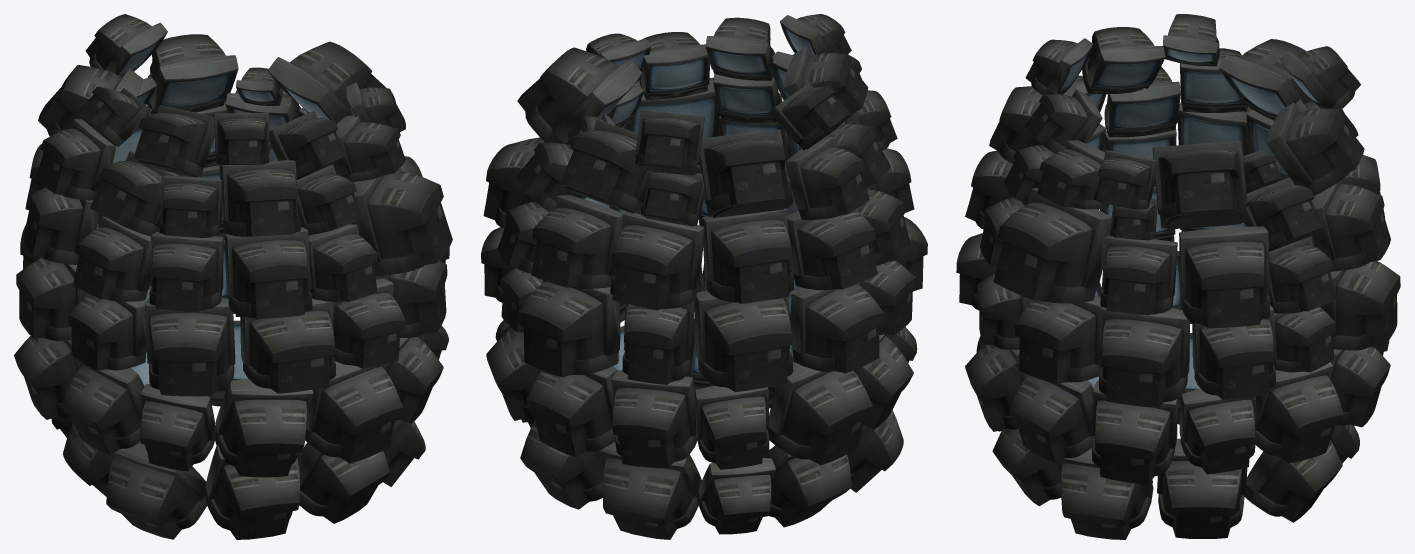
File: tv-wall.glb
The picture shows the model from 3 angles, left to right: view 1: azimuth 30°, elevation 25°; view 2: azimuth 150°, elevation 25°; view 3: azimuth 270°, elevation 25°; orthographic projection. The views are drawn at different scales.
Visible parts, largest first — view 1: TV.030, TV.018, TV.010, TV.011, TV.017, TV.025, TV.057, TV.054, TV.043, TV.008, TV.036, TV.035 (+30 smaller); view 2: TV.024, TV.022, TV.007, TV.033, TV.032, TV.013, TV.012, TV.047, TV.026, TV.039, TV.050, TV.001 (+37 smaller); view 3: TV.030, TV.028, TV.014, TV.039, TV.002, TV.004, TV.015, TV.038, TV.052, TV.020, TV.005, TV.056 (+40 smaller).
Boxes of the visible parts, x1,y1,x2,y2 form: TV.030: (350, 170, 452, 275); TV.018: (145, 298, 235, 396); TV.010: (215, 378, 313, 477); TV.011: (305, 361, 402, 463); TV.017: (240, 298, 335, 393); TV.025: (224, 227, 312, 319); TV.057: (106, 442, 207, 539); TV.054: (205, 445, 303, 539); TV.043: (219, 160, 300, 236); TV.008: (61, 360, 144, 454); TV.036: (149, 232, 223, 312); TV.035: (73, 216, 150, 301); TV.024: (694, 290, 793, 391); TV.022: (518, 280, 620, 377); TV.007: (768, 363, 872, 465); TV.033: (702, 208, 794, 303); TV.032: (610, 211, 703, 310); TV.013: (790, 283, 883, 373); TV.012: (611, 370, 697, 468); TV.047: (698, 129, 793, 217); TV.026: (531, 195, 622, 288); TV.039: (517, 47, 642, 144); TV.050: (598, 442, 701, 539); TV.001: (526, 366, 617, 456); TV.030: (993, 188, 1111, 303); TV.028: (1179, 226, 1270, 328); TV.014: (1099, 307, 1189, 407); TV.039: (1152, 141, 1247, 229); TV.002: (1254, 362, 1343, 463); TV.004: (1092, 380, 1177, 484); TV.015: (1014, 295, 1101, 384); TV.038: (1267, 103, 1364, 195); TV.052: (1157, 438, 1247, 538); TV.020: (1192, 305, 1275, 399); TV.005: (1009, 375, 1093, 463); TV.056: (1057, 448, 1153, 539).
Size of the model in its own units: 2.17 by 2.28 by 2.21.
Materials: 128 (128 with a texture image).
